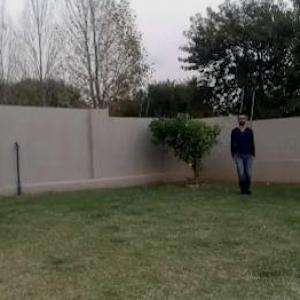follow: (234, 107, 256, 199)
